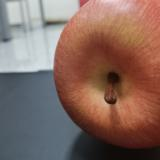apple: (54, 1, 160, 151)
